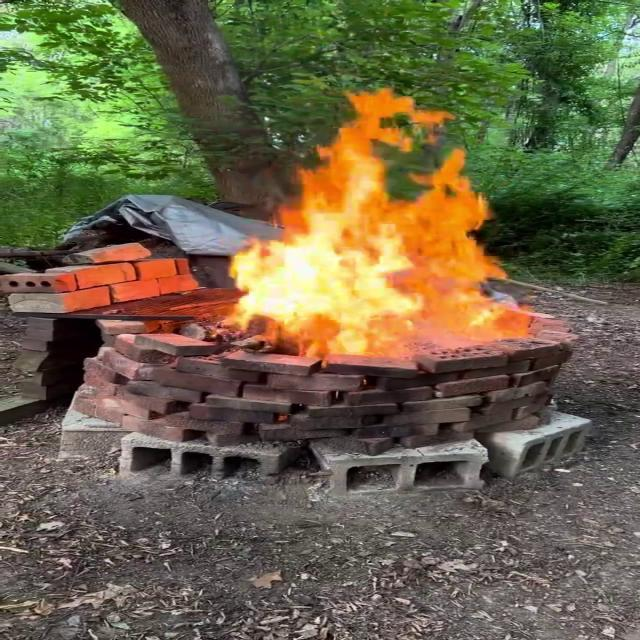Fire: (209, 84, 548, 360)
